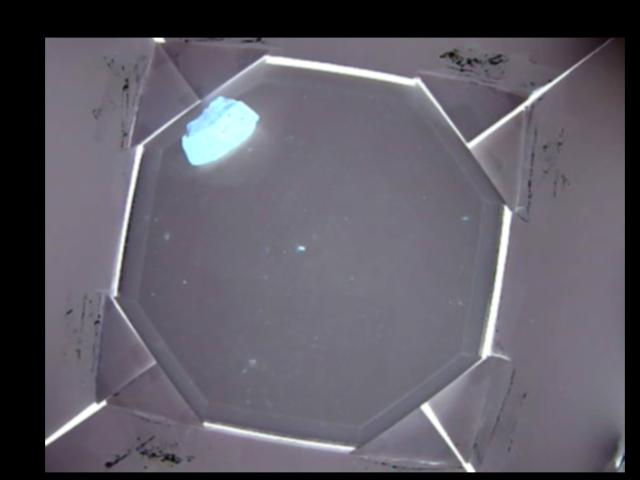Brisk: (179, 91, 262, 168)
